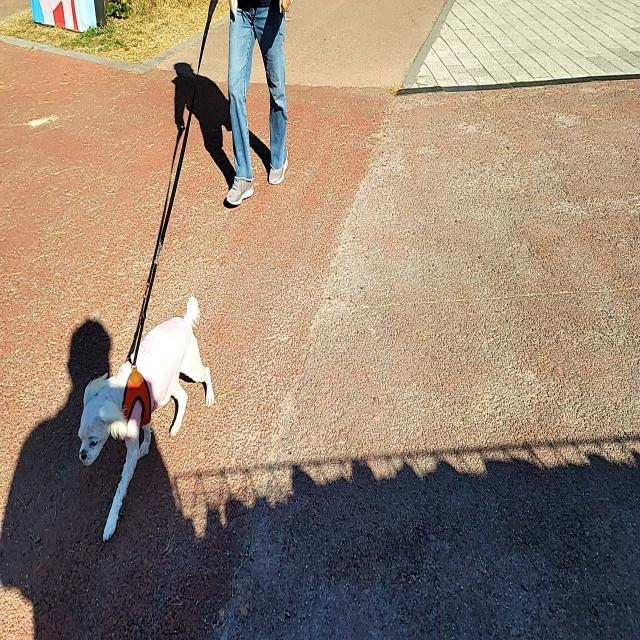Leashed_Dog: (76, 0, 254, 544)
